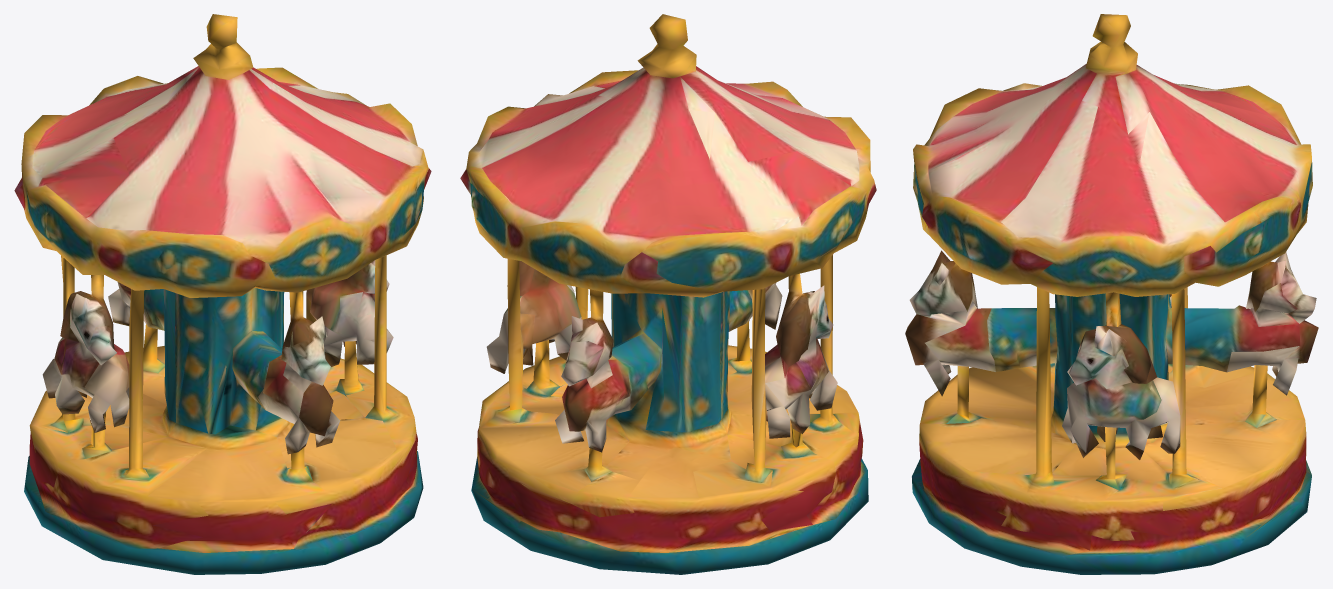
File: carousel.glb
The picture shows the model from 3 angles, left to right: view 1: azimuth 30°, elevation 25°; view 2: azimuth 150°, elevation 25°; view 3: azimuth 270°, elevation 25°; orthographic projection.
Parts seen in each view (by area): view 1: model; view 2: model; view 3: model.
Part boxes in pixels (<box>): model: <box>14,14,431,574</box>; model: <box>460,14,876,574</box>; model: <box>905,14,1318,574</box>.
Bounding box in the file's own units: 1.48 × 1.89 × 1.49.
Materials: 1 (1 with a texture image).
